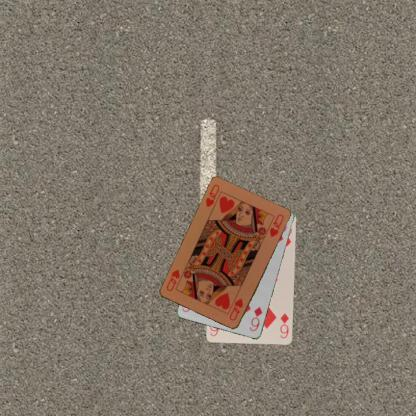6d: (247, 304, 264, 333), (278, 311, 290, 340)
Qh: (226, 296, 245, 322), (203, 182, 221, 209)
